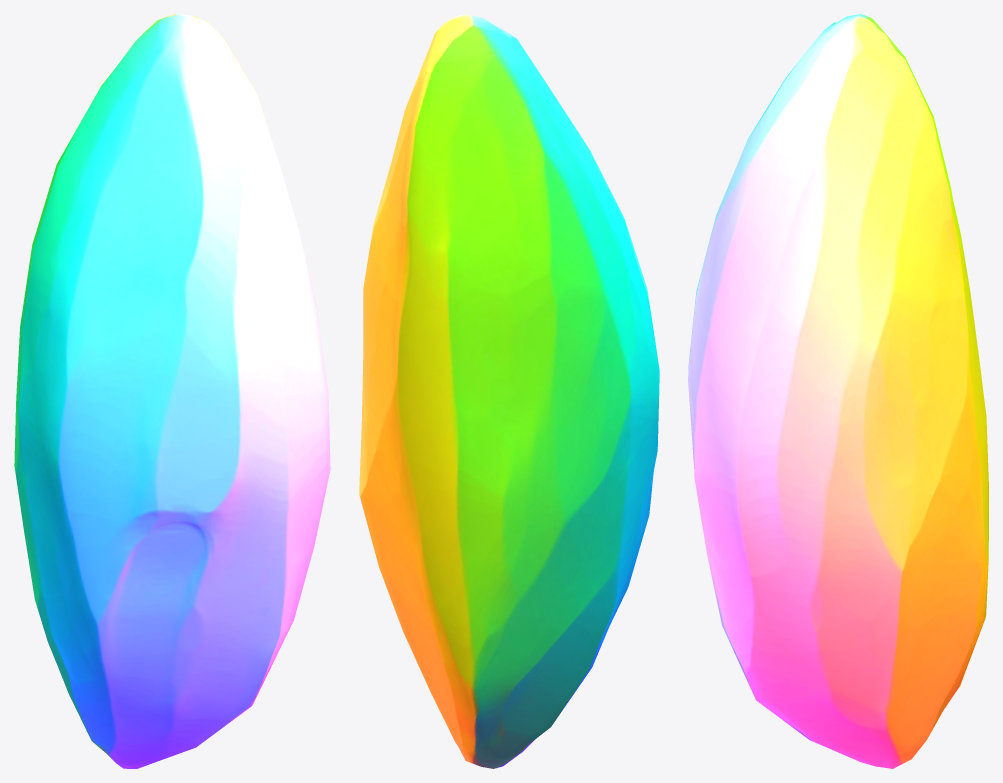
The picture shows the model from 3 angles, left to right: view 1: azimuth 30°, elevation 25°; view 2: azimuth 150°, elevation 25°; view 3: azimuth 270°, elevation 25°; orthographic projection. The views are drawn at different scales.
Parts seen in each view (by area): view 1: Crystall_001_lp; view 2: Crystall_001_lp; view 3: Crystall_001_lp.
Part boxes in pixels (bbox=[...]): Crystall_001_lp: bbox=[14, 14, 330, 768]; Crystall_001_lp: bbox=[359, 14, 659, 768]; Crystall_001_lp: bbox=[688, 14, 988, 768].
Size of the model in its own units: 0.7628 by 2 by 0.7121.
1 material, 1 textured.
